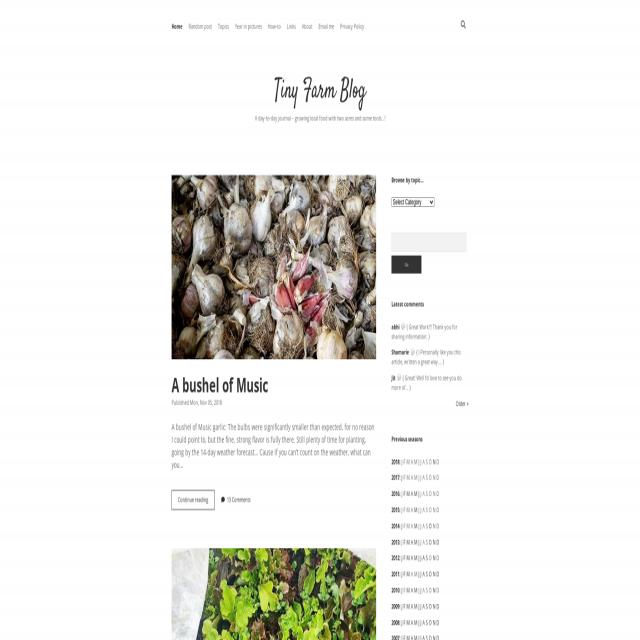button: (172, 175, 376, 359), (458, 16, 468, 34)
field: (392, 232, 466, 252), (392, 255, 422, 273), (392, 197, 434, 207)
